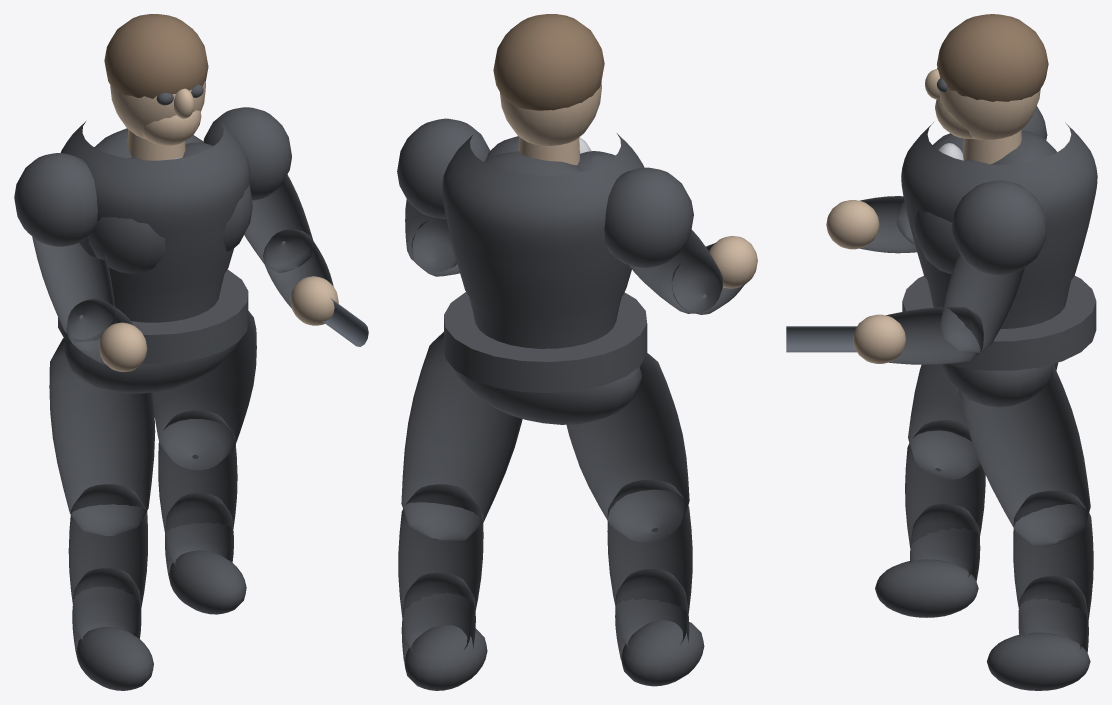
The model's file is spy.glb.
3 renders of one model, left to right at view 1: azimuth 30°, elevation 25°; view 2: azimuth 150°, elevation 25°; view 3: azimuth 270°, elevation 25°, orthographic. The views are drawn at different scales.
Visible parts, largest first — view 1: Hull; view 2: Hull; view 3: Hull.
Part boxes in pixels (box(x1,y1,x2,y2)): Hull: box(14, 14, 368, 690); Hull: box(397, 14, 757, 690); Hull: box(786, 14, 1097, 690).
Bounding box in the file's own units: 0.4351 × 0.943 × 0.4208.
